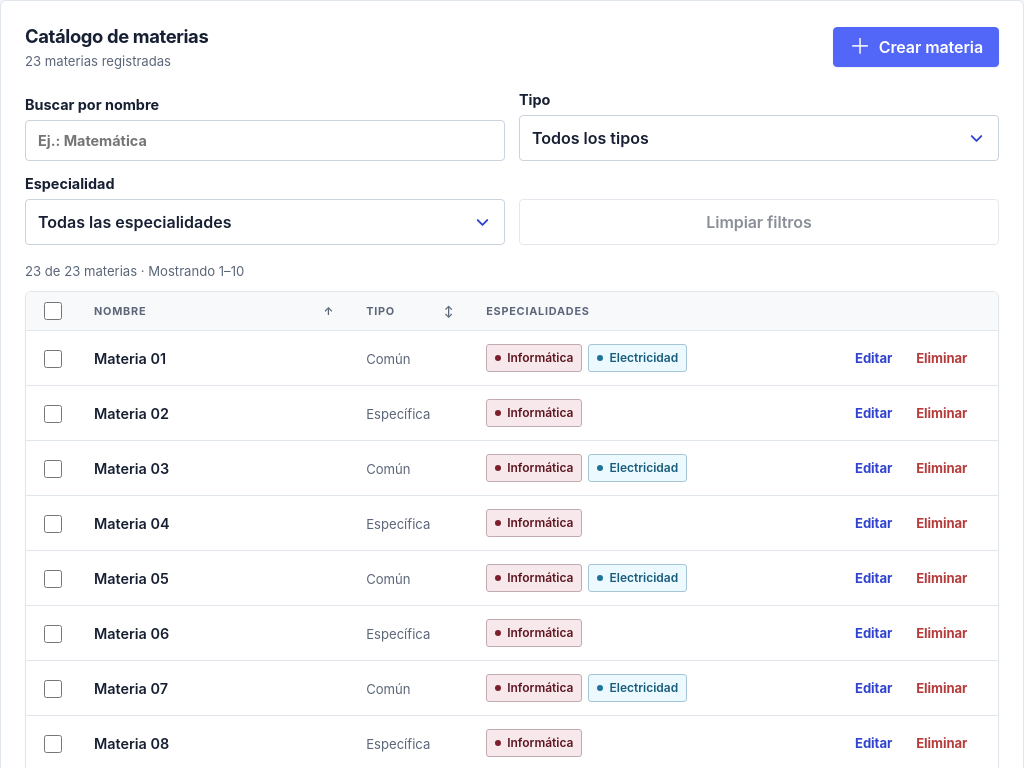
Test: Catálogo de materias › muestra chips usando los colores existentes y un estado sin coincidencias
Type "No existe" into the search field at (265, 140), box [25,120,505,161]
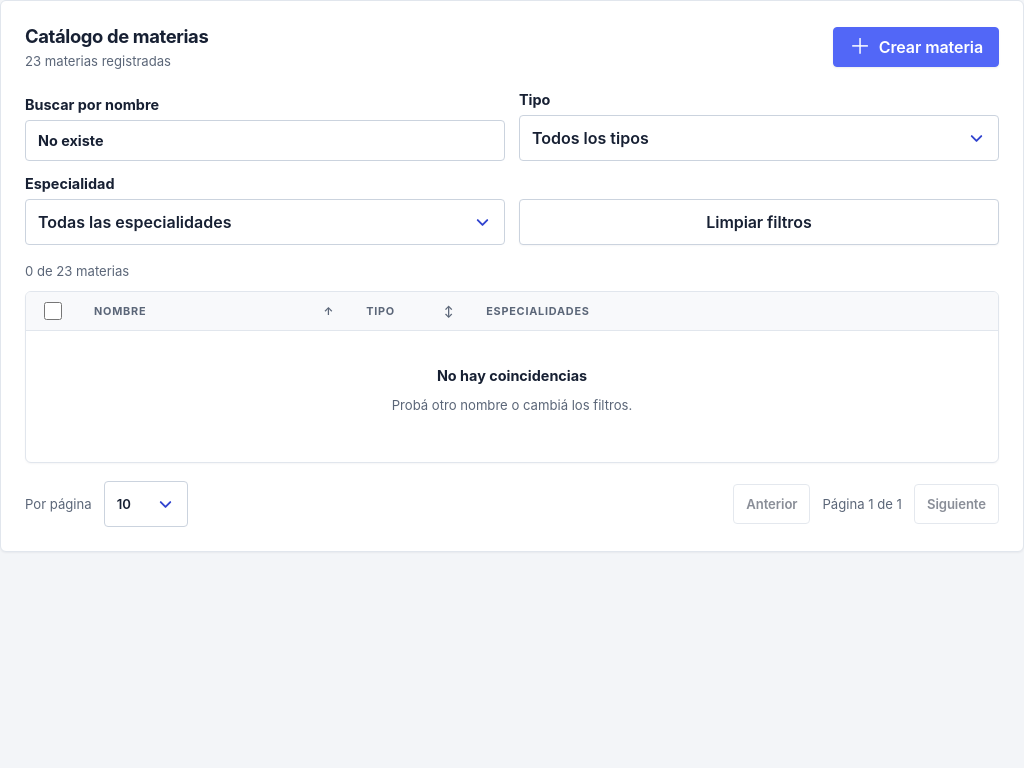
Expected: the text "No hay coincidencias" is shown, [437,367,587,384]
Expected: the button "Siguiente" is disabled, [914,484,999,524]
